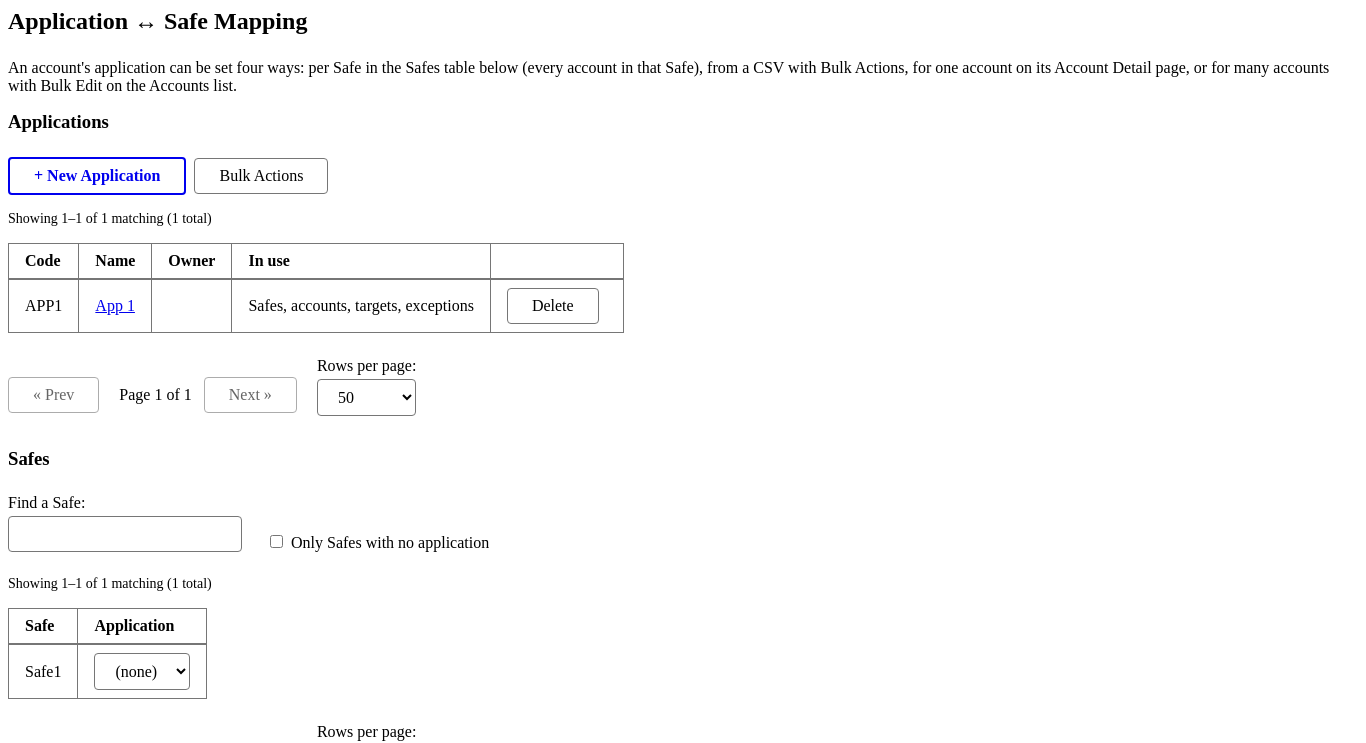
ApplicationSafeMapping.vue › assigning a Safe to an application › a refused assignment shows the reason and puts the select back on what is saved
This screenshot has width=1366, height=743.
Select "App 2" in the dropdown named "Application for safe Safe1": x=142, y=672 top-left (94, 653), bottom-right (190, 690)
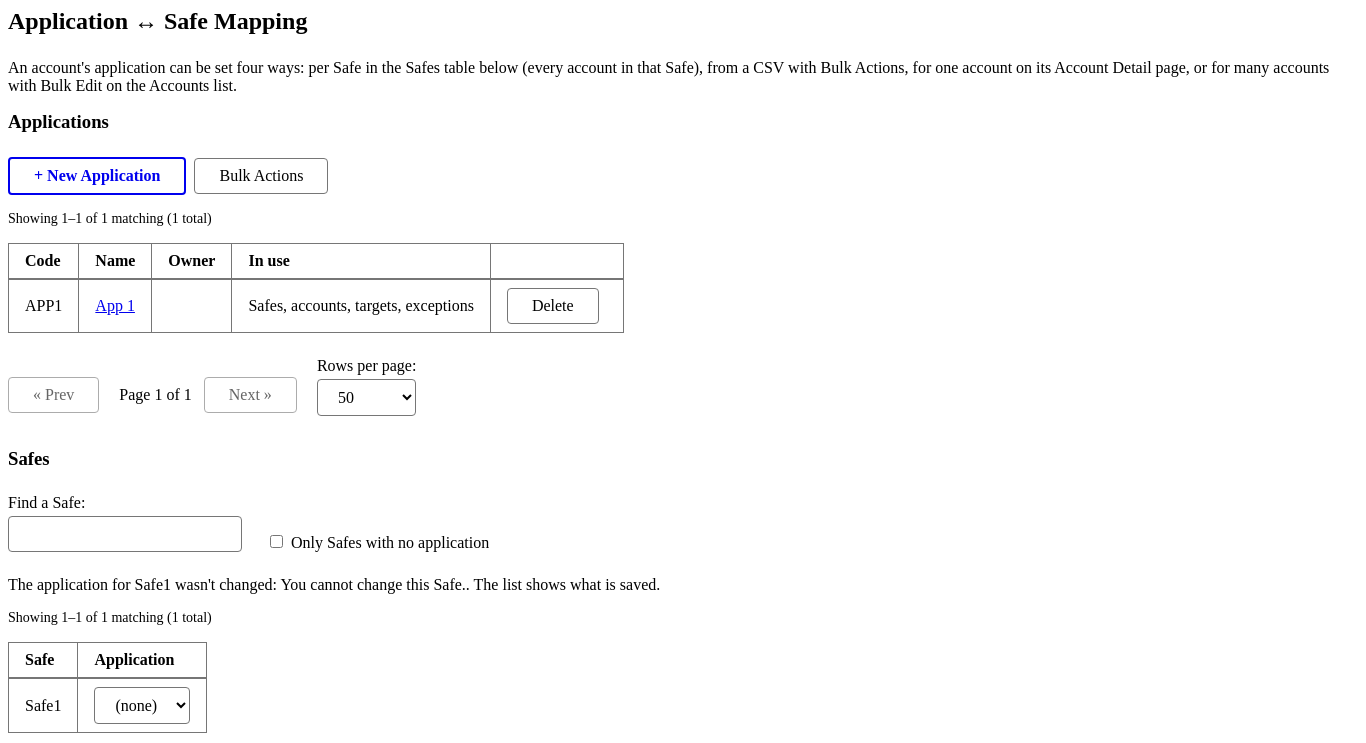
Result: the message with class "assign-error" shows "wasn't changed: You cannot change this Safe." at top-left (8, 576), bottom-right (660, 593)
